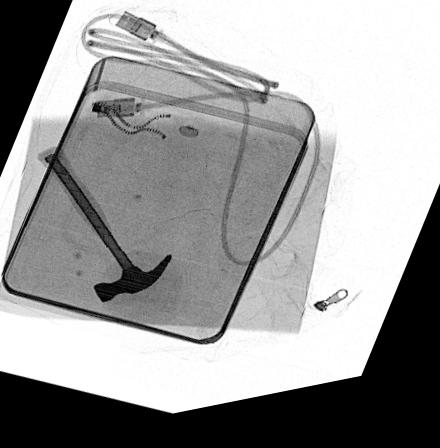Hammer: (36, 149, 174, 307)
